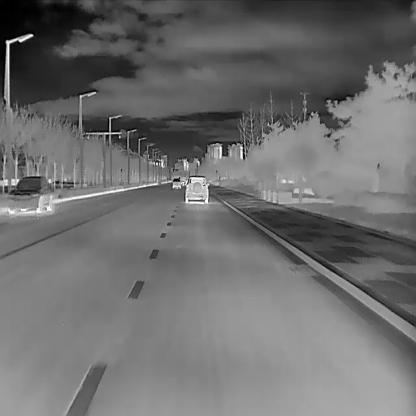car: (6, 175, 53, 212), (185, 176, 209, 202), (172, 178, 180, 188)
